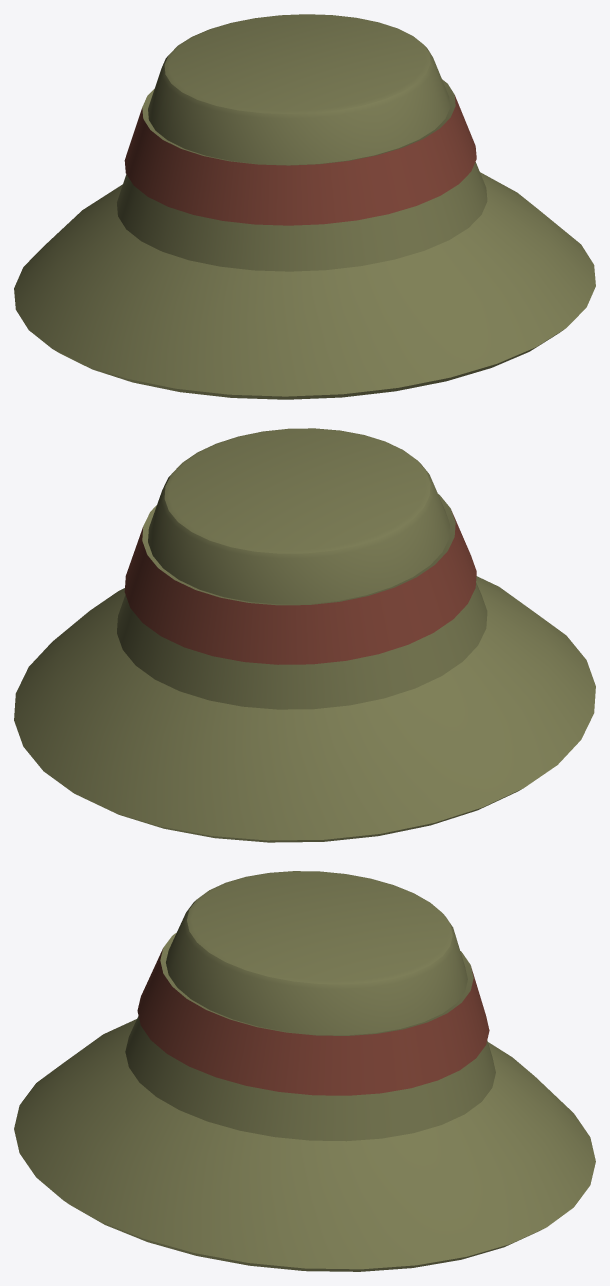
File: hat.fbx
3 views of the same model, one above another, from view 1: azimuth 30°, elevation 25°; view 2: azimuth 150°, elevation 25°; view 3: azimuth 270°, elevation 25° (orthographic).
Parts seen in each view (by area): view 1: Circle; view 2: Circle; view 3: Circle.
Boxes of the visible parts, x1,y1,x2,y2 form: Circle: (14, 14, 595, 399); Circle: (14, 428, 595, 842); Circle: (14, 871, 595, 1271).
Size of the model in its own units: 141 by 66.05 by 140.
